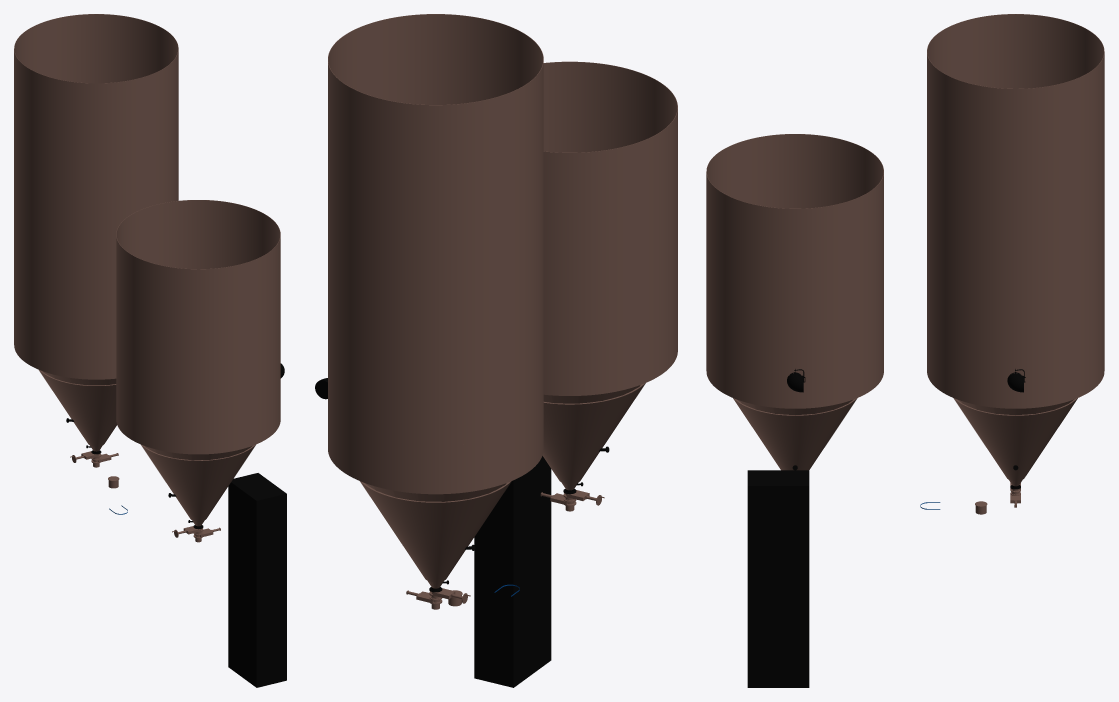
Rendered from GCC-AAV-13220-30.nwd(39).fbx.
3 views of the same model, side by side, from view 1: azimuth 30°, elevation 25°; view 2: azimuth 150°, elevation 25°; view 3: azimuth 270°, elevation 25° (orthographic). The views are drawn at different scales.
Parts seen in each view (by area): view 1: CYLINDER 3 of EQUIPMENT /716-S-602D, CYLINDER 6 of EQUIPMENT /716-S-602C, BOX 2 of EQUIPMENT 51 of ZONE /13220-10-5201/ME/ME, CYLINDER 4 of EQUIPMENT /716-S-602D, CYLINDER 7 of EQUIPMENT /716-S-602C, CYLINDER 5 of EQUIPMENT /716-S-602D, CYLINDER 8 of EQUIPMENT /716-S-602C, CYLINDER 10 of EQUIPMENT /716-S-602C, CYLINDER 9 of EQUIPMENT /716-S-602C, CYLINDER 6 of EQUIPMENT /716-S-602D, CYLINDER 7 of EQUIPMENT /716-S-602D, CYLINDER 10 of EQUIPMENT /716-S-602D (+6 smaller); view 2: CYLINDER 3 of EQUIPMENT /716-S-602D, CYLINDER 4 of EQUIPMENT /716-S-602D, BOX 2 of EQUIPMENT 51 of ZONE /13220-10-5201/ME/ME, CYLINDER 6 of EQUIPMENT /716-S-602C, CYLINDER 7 of EQUIPMENT /716-S-602D, CYLINDER 10 of EQUIPMENT /716-S-602D, CYLINDER 9 of EQUIPMENT /716-S-602D, CYLINDER 8 of EQUIPMENT /716-S-602D, CYLINDER 5 of EQUIPMENT /716-S-602D, CYLINDER 6 of EQUIPMENT /716-S-602D, CYLINDER 7 of EQUIPMENT /716-S-602C, CYLINDER 9 of EQUIPMENT /716-S-602C (+6 smaller); view 3: CYLINDER 3 of EQUIPMENT /716-S-602D, CYLINDER 6 of EQUIPMENT /716-S-602C, BOX 2 of EQUIPMENT 51 of ZONE /13220-10-5201/ME/ME, CYLINDER 4 of EQUIPMENT /716-S-602D, CYLINDER 7 of EQUIPMENT /716-S-602C, CYLINDER 9 of EQUIPMENT /716-S-602D, CYLINDER 9 of EQUIPMENT /716-S-602C, CYLINDER 8 of EQUIPMENT /716-S-602D, CYLINDER 8 of EQUIPMENT /716-S-602C, CYLINDER 7 of EQUIPMENT /716-S-602D, CYLINDER 6 of EQUIPMENT /716-S-602D, CYLINDER 5 of EQUIPMENT /716-S-602D (+6 smaller).
Boxes of the visible parts, x1,y1,x2,y2 form: CYLINDER 3 of EQUIPMENT /716-S-602D: [14, 14, 178, 120]; CYLINDER 6 of EQUIPMENT /716-S-602C: [116, 200, 280, 306]; BOX 2 of EQUIPMENT 51 of ZONE /13220-10-5201/ME/ME: [228, 473, 286, 687]; CYLINDER 4 of EQUIPMENT /716-S-602D: [14, 51, 178, 157]; CYLINDER 7 of EQUIPMENT /716-S-602C: [116, 237, 280, 343]; CYLINDER 5 of EQUIPMENT /716-S-602D: [14, 123, 178, 194]; CYLINDER 8 of EQUIPMENT /716-S-602C: [116, 311, 280, 380]; CYLINDER 10 of EQUIPMENT /716-S-602C: [116, 385, 280, 454]; CYLINDER 9 of EQUIPMENT /716-S-602C: [116, 348, 280, 417]; CYLINDER 6 of EQUIPMENT /716-S-602D: [14, 160, 178, 231]; CYLINDER 7 of EQUIPMENT /716-S-602D: [14, 197, 178, 268]; CYLINDER 10 of EQUIPMENT /716-S-602D: [14, 308, 116, 379]; CYLINDER 3 of EQUIPMENT /716-S-602D: [328, 14, 543, 153]; CYLINDER 4 of EQUIPMENT /716-S-602D: [328, 62, 543, 202]; BOX 2 of EQUIPMENT 51 of ZONE /13220-10-5201/ME/ME: [474, 456, 551, 687]; CYLINDER 6 of EQUIPMENT /716-S-602C: [543, 61, 677, 201]; CYLINDER 7 of EQUIPMENT /716-S-602D: [328, 257, 543, 348]; CYLINDER 10 of EQUIPMENT /716-S-602D: [328, 403, 543, 494]; CYLINDER 9 of EQUIPMENT /716-S-602D: [328, 355, 543, 445]; CYLINDER 8 of EQUIPMENT /716-S-602D: [328, 306, 543, 396]; CYLINDER 5 of EQUIPMENT /716-S-602D: [328, 160, 543, 250]; CYLINDER 6 of EQUIPMENT /716-S-602D: [328, 209, 543, 299]; CYLINDER 7 of EQUIPMENT /716-S-602C: [543, 110, 677, 250]; CYLINDER 9 of EQUIPMENT /716-S-602C: [543, 255, 677, 347]; CYLINDER 3 of EQUIPMENT /716-S-602D: [927, 14, 1104, 128]; CYLINDER 6 of EQUIPMENT /716-S-602C: [706, 134, 883, 248]; BOX 2 of EQUIPMENT 51 of ZONE /13220-10-5201/ME/ME: [747, 470, 809, 687]; CYLINDER 4 of EQUIPMENT /716-S-602D: [927, 54, 1104, 168]; CYLINDER 7 of EQUIPMENT /716-S-602C: [706, 174, 883, 288]; CYLINDER 9 of EQUIPMENT /716-S-602D: [927, 292, 1104, 368]; CYLINDER 9 of EQUIPMENT /716-S-602C: [706, 292, 883, 368]; CYLINDER 8 of EQUIPMENT /716-S-602D: [927, 252, 1104, 328]; CYLINDER 8 of EQUIPMENT /716-S-602C: [706, 252, 883, 328]; CYLINDER 7 of EQUIPMENT /716-S-602D: [927, 212, 1104, 288]; CYLINDER 6 of EQUIPMENT /716-S-602D: [927, 172, 1104, 248]; CYLINDER 5 of EQUIPMENT /716-S-602D: [927, 132, 1104, 208].
Size of the model in its own units: 355 by 1185 by 711.
